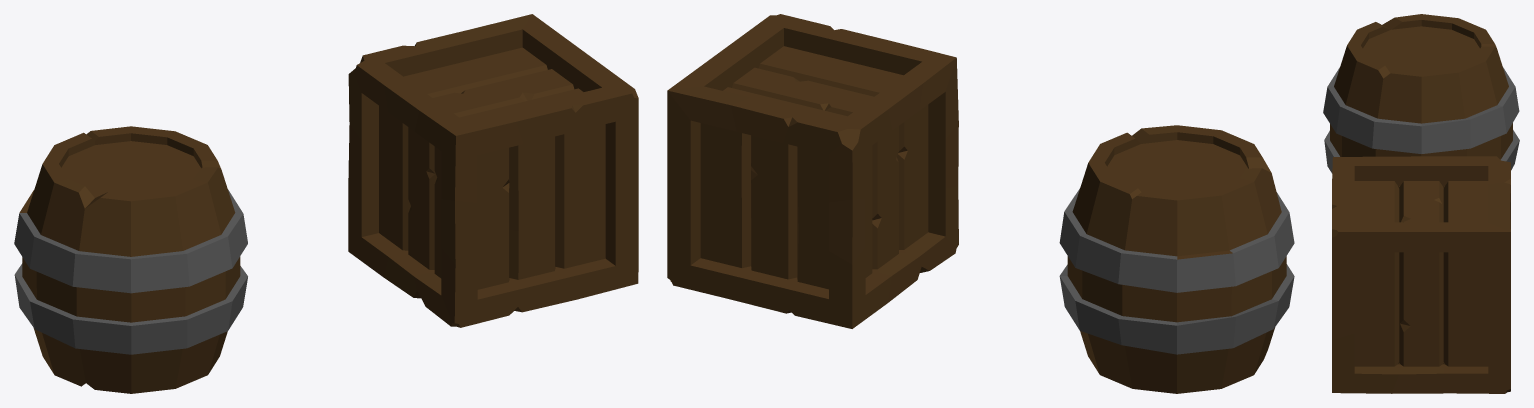
The model's file is dungeon.fbx_Collection.fbx.
3 renders of one model, left to right at view 1: azimuth 30°, elevation 25°; view 2: azimuth 150°, elevation 25°; view 3: azimuth 270°, elevation 25°, orthographic. The views are drawn at different scales.
Parts seen in each view (by area): view 1: Cube, Crate; view 2: Cube, Crate; view 3: Cube, Crate.
Boxes of the visible parts, x1,y1,x2,y2 form: Cube: (348, 14, 638, 327); Crate: (14, 126, 247, 393); Cube: (667, 14, 958, 328); Crate: (1059, 125, 1294, 393); Cube: (1332, 156, 1510, 393); Crate: (1323, 14, 1519, 173).
Bounding box in the file's own units: 362 × 121 × 132.
